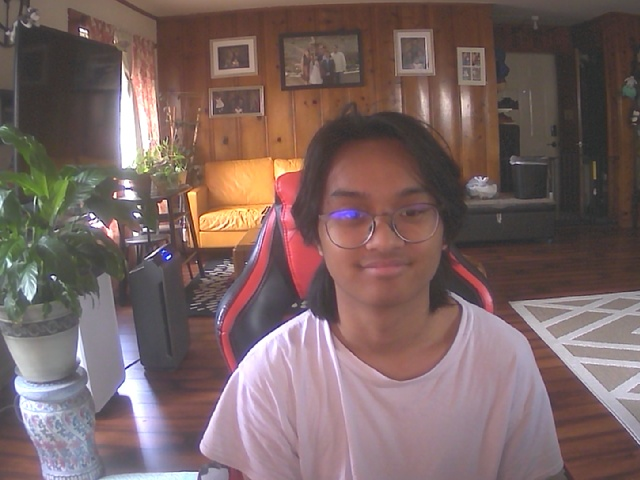happy: (306, 113, 454, 314)
